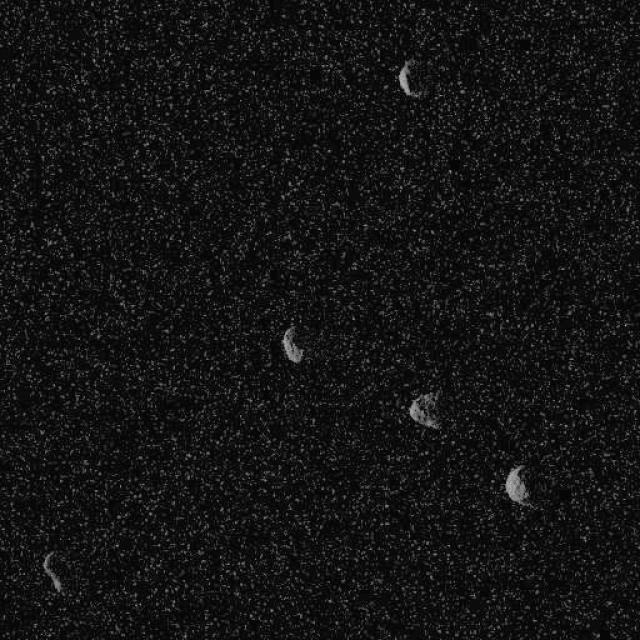D2: (408, 390, 442, 430), (503, 463, 532, 508), (396, 59, 424, 99), (41, 550, 64, 594), (280, 325, 304, 364)
